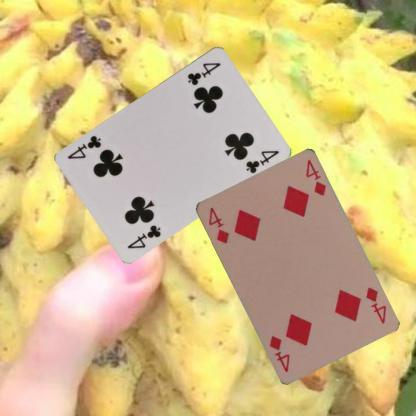4c: (124, 221, 162, 250), (184, 60, 222, 86)
4d: (363, 284, 388, 326), (205, 204, 230, 245)
